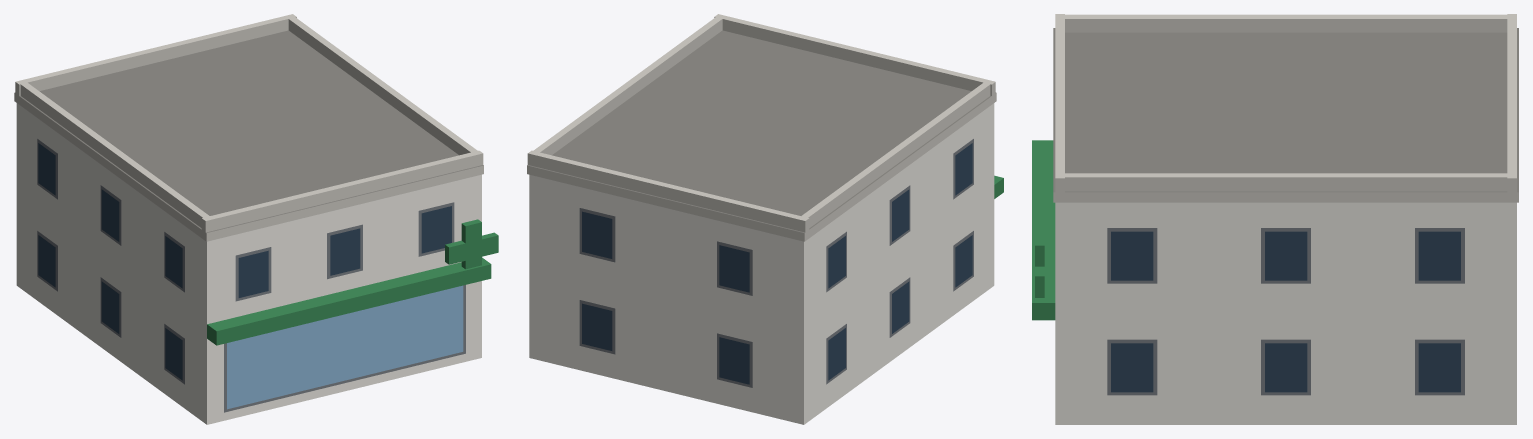
Rendered from pharmacie.glb.
3 renders of one model, left to right at view 1: azimuth 30°, elevation 25°; view 2: azimuth 150°, elevation 25°; view 3: azimuth 270°, elevation 25°, orthographic. The views are drawn at different scales.
Visible parts, largest first — view 1: pharmacie; view 2: pharmacie; view 3: pharmacie.
Boxes of the visible parts, x1=… form: pharmacie: x1=14, y1=14, x2=498, y2=424; pharmacie: x1=527, y1=14, x2=1003, y2=424; pharmacie: x1=1032, y1=14, x2=1518, y2=424.
Bounding box in the file's own units: 10.35 × 7.1 × 12.65.
Materials: 1 (1 with a texture image).
